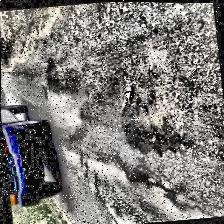pothole: (119, 76, 185, 152)
